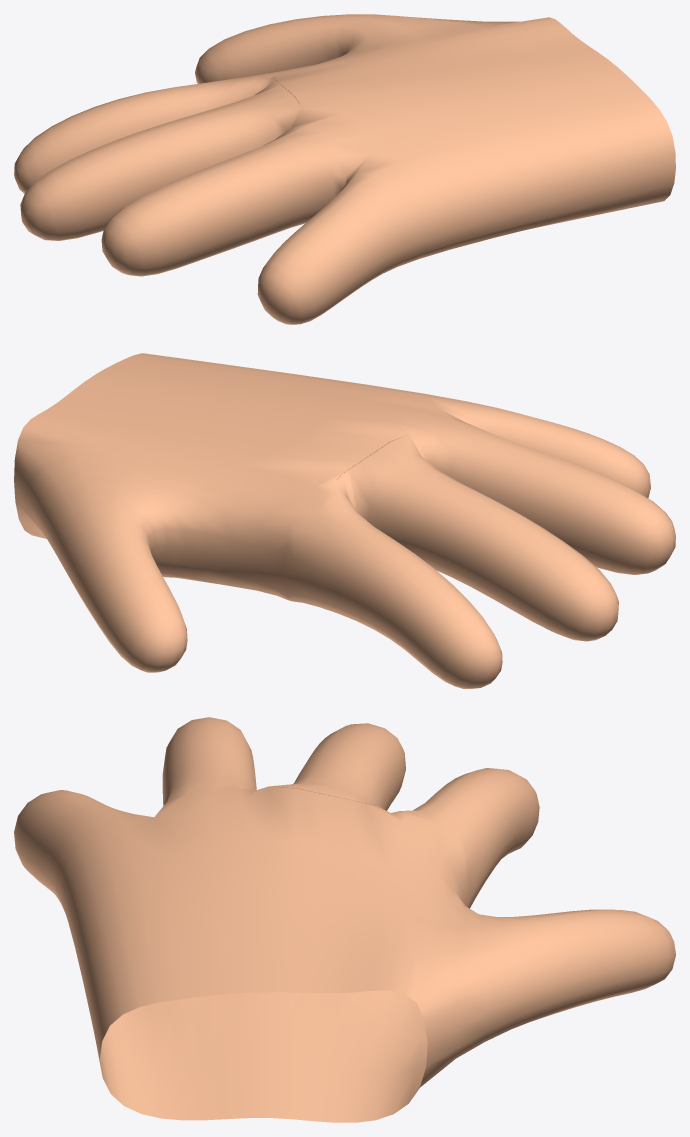
The model's file is hand2.fbx.
The picture shows the model from 3 angles, top to bottom: view 1: azimuth 30°, elevation 25°; view 2: azimuth 150°, elevation 25°; view 3: azimuth 270°, elevation 25°; orthographic projection. The views are drawn at different scales.
Parts seen in each view (by area): view 1: Cube; view 2: Cube; view 3: Cube.
Part boxes in pixels (x1,y1,x2,y2): Cube: (14, 14, 675, 324); Cube: (14, 353, 675, 688); Cube: (14, 717, 675, 1122).
Bounding box in the file's own units: 735 × 179 × 658.
